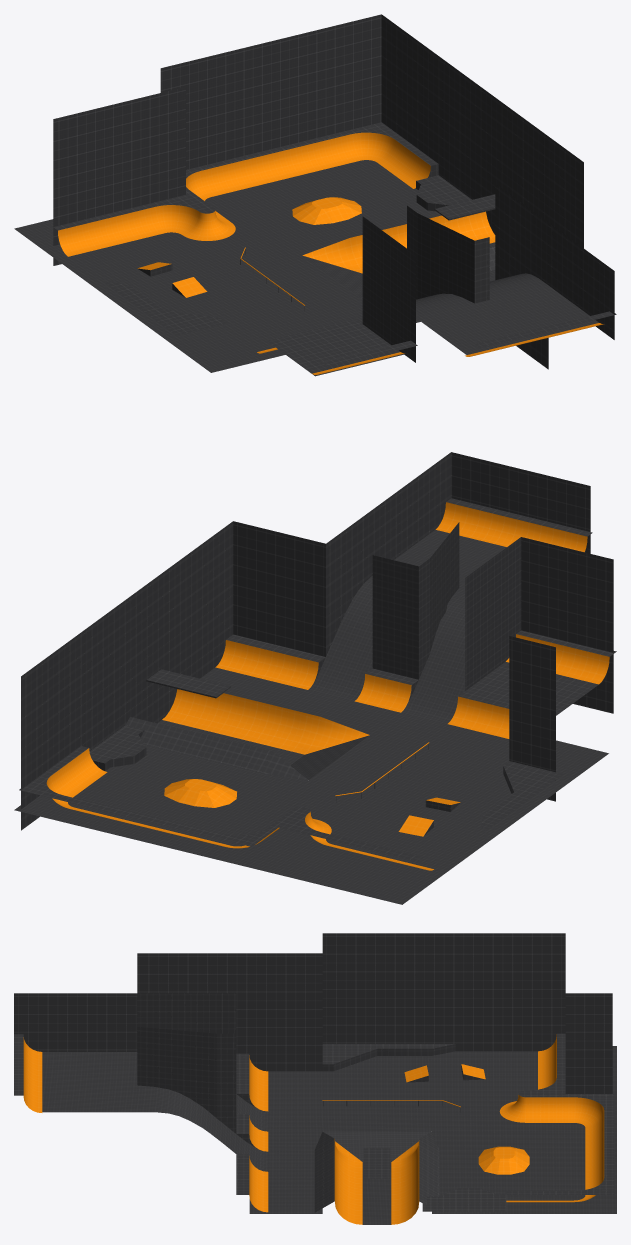
Rendered from Warehouse.glb.
The picture shows the model from 3 angles, top to bottom: view 1: azimuth 30°, elevation 25°; view 2: azimuth 150°, elevation 25°; view 3: azimuth 270°, elevation 25°; orthographic projection. The views are drawn at different scales.
Visible parts, largest first — view 1: WarehouseWallA_Mesh, WarehouseFloorA_Mesh, WarehousePipeF_Mesh, WarehouseWallB_Mesh, WarehouseWallD_Mesh, WarehouseFloorB_Mesh, WarehousePipeH_Mesh, WarehouseFunboxB_Mesh, WarehouseWallC_Mesh, WarehouseKickerC_Mesh, WarehouseFunboxA_Mesh, WarehousePipeA_Mesh (+3 smaller); view 2: WarehouseWallA_Mesh, WarehouseFloorA_Mesh, WarehouseWallB_Mesh, WarehousePipeG_Mesh, WarehousePipeF_Mesh, WarehouseWallD_Mesh, WarehousePipeA_Mesh, WarehousePipeH_Mesh, WarehousePipeB_Mesh, WarehousePipeE_Mesh, WarehouseFunboxB_Mesh, WarehousePipeD_Mesh (+6 smaller); view 3: WarehouseWallA_Mesh, WarehouseFloorA_Mesh, WarehousePipeF_Mesh, WarehouseWallB_Mesh, WarehouseWallD_Mesh, WarehousePipeG_Mesh, WarehousePipeH_Mesh, WarehouseFunboxB_Mesh, WarehousePipeA_Mesh, WarehouseFunboxA_Mesh, WarehousePipeD_Mesh, WarehousePipeB_Mesh (+3 smaller).
Boxes of the visible parts, <box> form: WarehouseWallA_Mesh: <box>53,14,614,369</box>; WarehouseFloorA_Mesh: <box>14,160,599,372</box>; WarehousePipeF_Mesh: <box>52,122,438,256</box>; WarehouseWallB_Mesh: <box>407,205,489,303</box>; WarehouseWallD_Mesh: <box>362,216,415,323</box>; WarehouseFloorB_Mesh: <box>274,324,403,376</box>; WarehousePipeH_Mesh: <box>302,211,495,273</box>; WarehouseFunboxB_Mesh: <box>105,281,227,335</box>; WarehouseWallC_Mesh: <box>363,305,415,362</box>; WarehouseKickerC_Mesh: <box>292,197,361,224</box>; WarehouseFunboxA_Mesh: <box>416,175,471,211</box>; WarehousePipeA_Mesh: <box>465,311,616,356</box>; WarehouseWallA_Mesh: <box>21,452,613,830</box>; WarehouseFloorA_Mesh: <box>14,529,608,904</box>; WarehouseWallB_Mesh: <box>372,522,459,679</box>; WarehousePipeG_Mesh: <box>162,689,369,754</box>; WarehousePipeF_Mesh: <box>19,746,433,870</box>; WarehouseWallD_Mesh: <box>465,537,521,690</box>; WarehousePipeA_Mesh: <box>435,498,592,552</box>; WarehousePipeH_Mesh: <box>126,717,307,779</box>; WarehousePipeB_Mesh: <box>215,634,325,689</box>; WarehousePipeE_Mesh: <box>506,630,616,684</box>; WarehouseFunboxB_Mesh: <box>481,761,563,828</box>; WarehousePipeD_Mesh: <box>448,691,558,738</box>; WarehouseWallA_Mesh: <box>14,933,612,1093</box>; WarehouseFloorA_Mesh: <box>42,1046,616,1224</box>; WarehousePipeF_Mesh: <box>499,1033,614,1202</box>; WarehouseWallB_Mesh: <box>137,1027,236,1133</box>; WarehouseWallD_Mesh: <box>137,993,236,1033</box>; WarehousePipeG_Mesh: <box>314,1132,362,1224</box>; WarehousePipeH_Mesh: <box>391,1132,439,1224</box>; WarehouseFunboxB_Mesh: <box>322,1044,455,1071</box>; WarehousePipeA_Mesh: <box>14,1034,42,1112</box>; WarehouseFunboxA_Mesh: <box>422,1188,506,1211</box>; WarehousePipeD_Mesh: <box>236,1053,268,1111</box>; WarehousePipeB_Mesh: <box>236,1154,268,1212</box>.
Bounding box in the file's own units: 30.98 × 11.44 × 45.67.
Materials: 3 (2 with a texture image).
